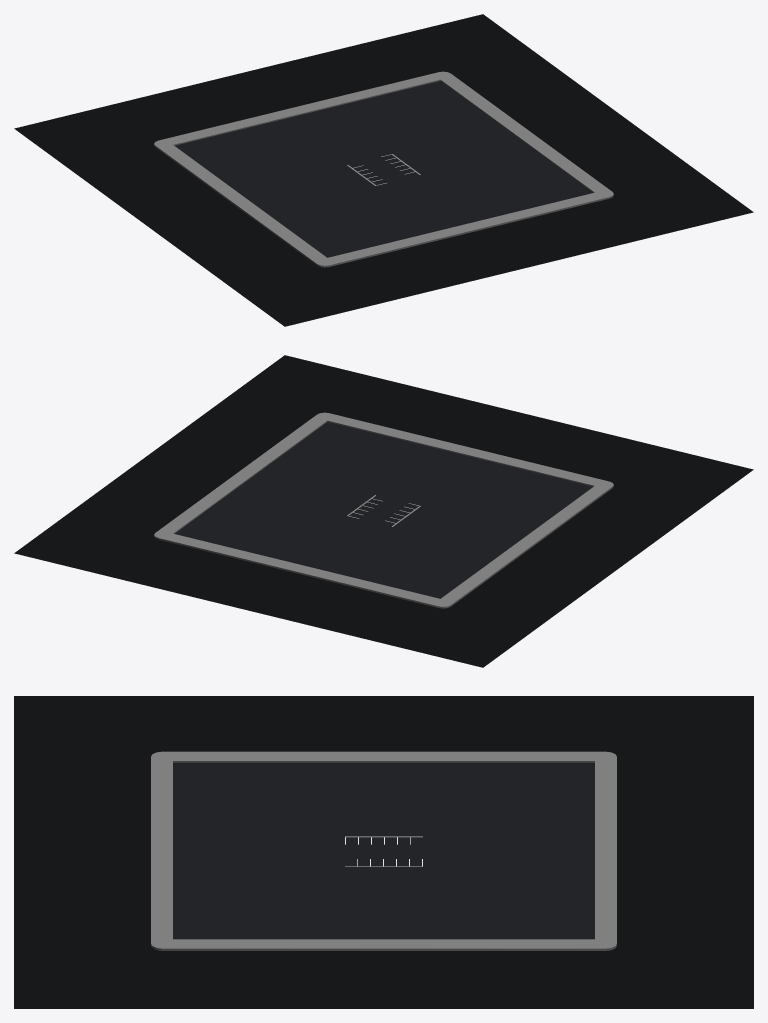
Rendered from Parking_Zone 1.fbx.
The picture shows the model from 3 angles, top to bottom: view 1: azimuth 30°, elevation 25°; view 2: azimuth 150°, elevation 25°; view 3: azimuth 270°, elevation 25°; orthographic projection. The views are drawn at different scales.
Visible parts, largest first — view 1: Parking_Zone; view 2: Parking_Zone; view 3: Parking_Zone.
Boxes of the visible parts, x1=… form: Parking_Zone: x1=14, y1=14, x2=753, y2=326; Parking_Zone: x1=14, y1=355, x2=753, y2=667; Parking_Zone: x1=14, y1=696, x2=753, y2=1008.
Size of the model in its own units: 28000 by 98.7 by 28000.
Materials: 1 (1 with a texture image).
